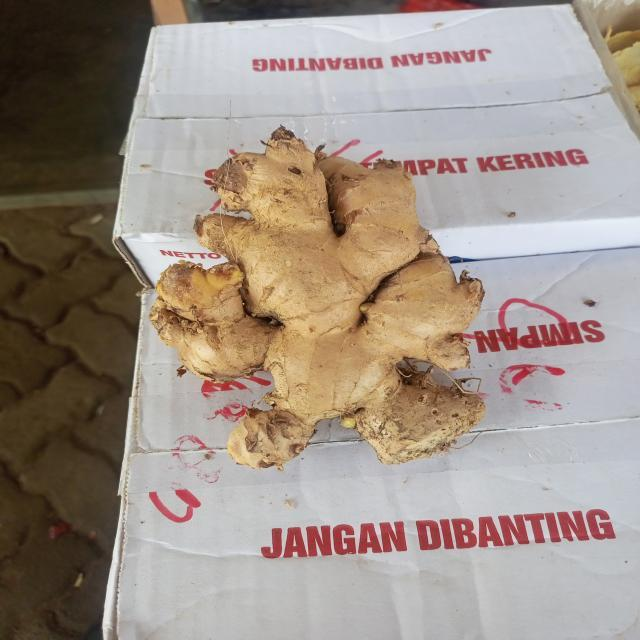ginger: (158, 127, 484, 466)
